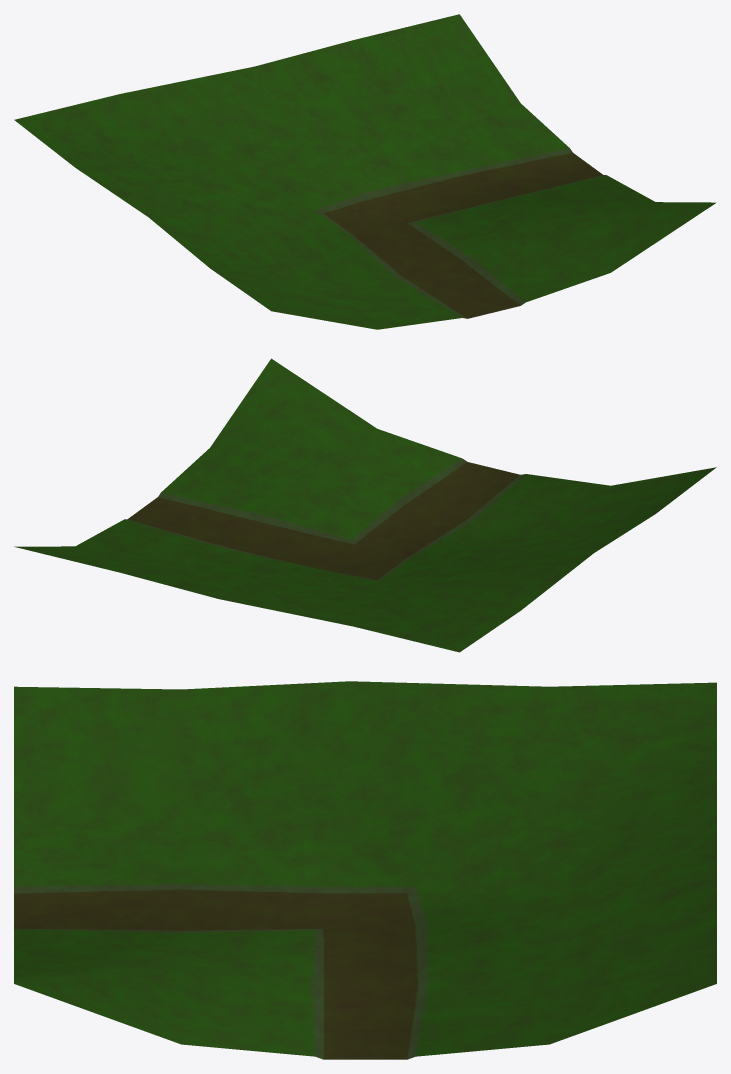
File: env3.fbx
3 renders of one model, top to bottom at view 1: azimuth 30°, elevation 25°; view 2: azimuth 150°, elevation 25°; view 3: azimuth 270°, elevation 25°, orthographic. The views are drawn at different scales.
Visible parts, largest first — view 1: Plane.001; view 2: Plane.001; view 3: Plane.001.
Boxes of the visible parts, bbox=[...] form: Plane.001: bbox=[14, 14, 716, 329]; Plane.001: bbox=[14, 358, 716, 652]; Plane.001: bbox=[14, 681, 716, 1059].
Bounding box in the file's own units: 2100 × 268 × 2100.
